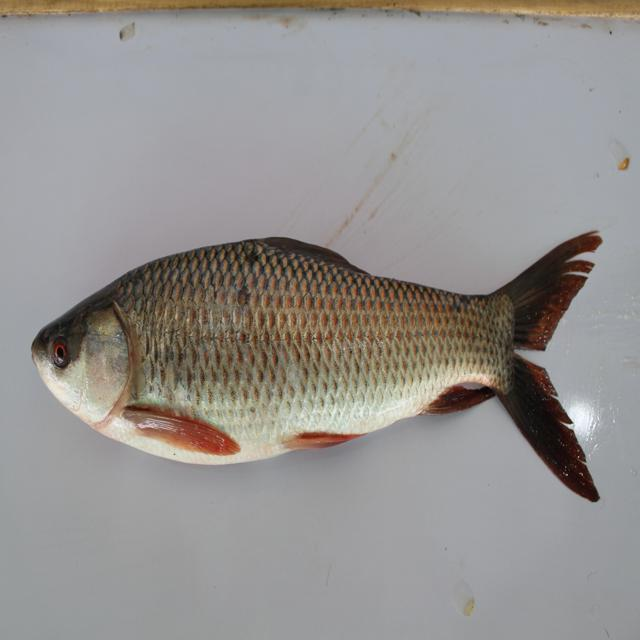Rohu: (28, 202, 610, 510)
